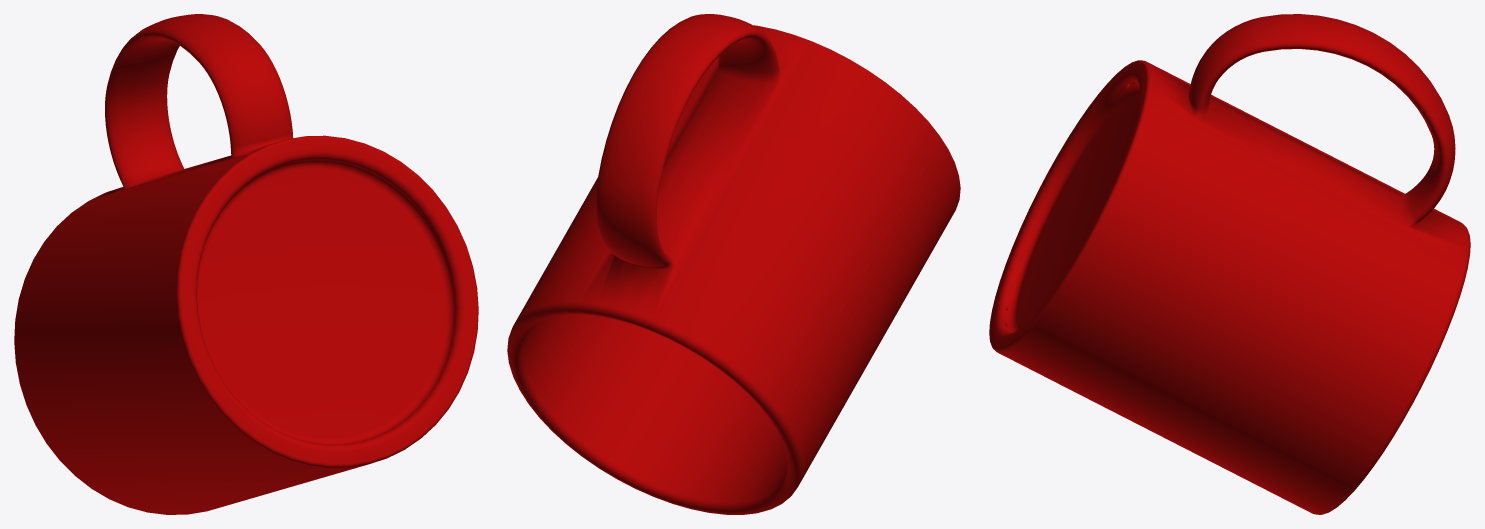
Rendered from mug1_3.dae.
3 views of the same model, side by side, from view 1: azimuth 30°, elevation 25°; view 2: azimuth 150°, elevation 25°; view 3: azimuth 270°, elevation 25° (orthographic). The views are drawn at different scales.
Parts seen in each view (by area): view 1: mug1; view 2: mug1; view 3: mug1.
Boxes of the visible parts, bbox=[...] form: mug1: bbox=[14, 14, 478, 514]; mug1: bbox=[507, 14, 960, 514]; mug1: bbox=[989, 14, 1470, 514].
Size of the model in its own units: 0.1633 by 0.2405 by 0.2623.
